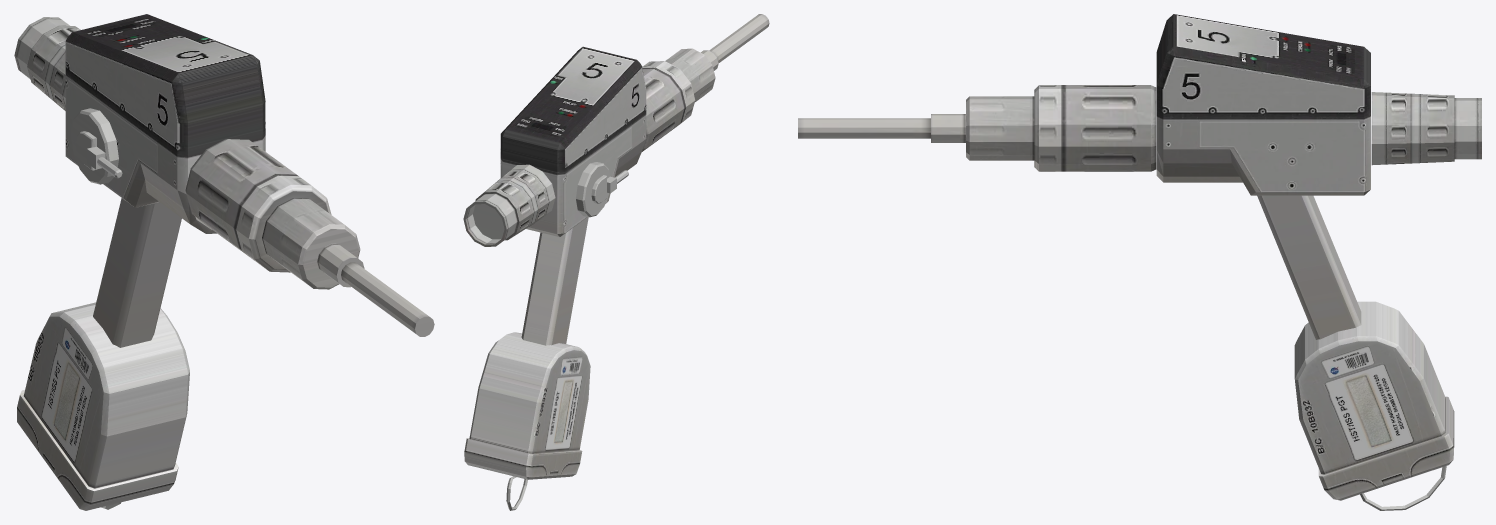
File: pistol_grip_tool.glb
3 views of the same model, side by side, from view 1: azimuth 30°, elevation 25°; view 2: azimuth 150°, elevation 25°; view 3: azimuth 270°, elevation 25° (orthographic). The views are drawn at different scales.
Visible parts, largest first — view 1: pistolgrip; view 2: pistolgrip; view 3: pistolgrip.
Boxes of the visible parts, x1=… form: pistolgrip: x1=14, y1=14, x2=434, y2=510; pistolgrip: x1=463, y1=14, x2=769, y2=510; pistolgrip: x1=798, y1=14, x2=1481, y2=510.
Bounding box in the file's own units: 0.0555 × 0.2551 × 0.33.
Materials: 1 (1 with a texture image).
